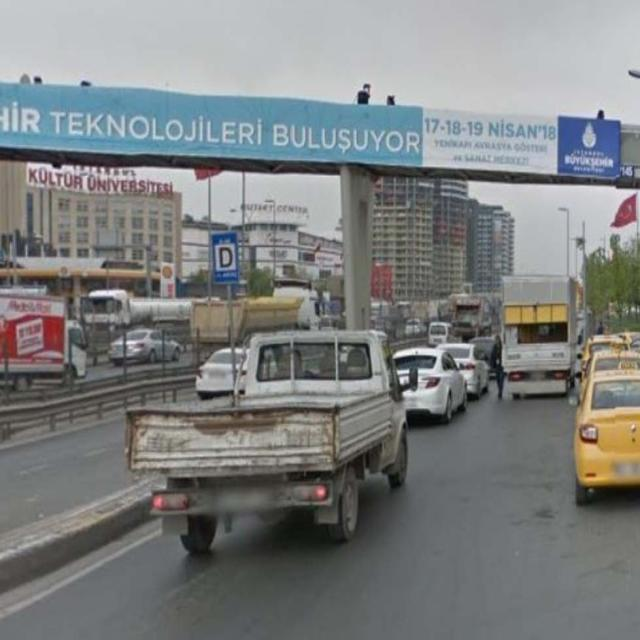durak: (212, 233, 240, 283)
